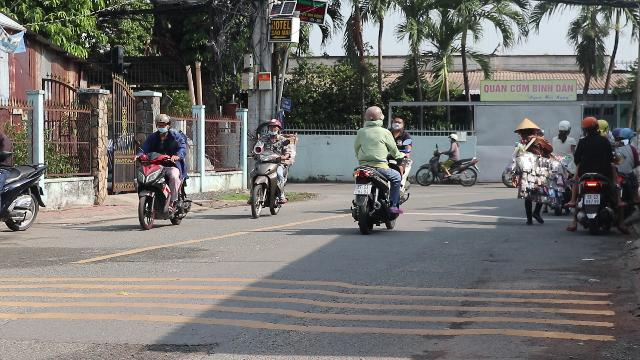helmet: (362, 105, 382, 125), (154, 113, 172, 135), (581, 115, 599, 134), (267, 119, 281, 135)
licenseplate: (354, 184, 372, 194), (584, 194, 600, 204)
motorcyclist: (347, 104, 407, 232), (130, 112, 192, 229), (568, 115, 622, 235), (244, 118, 294, 218)
